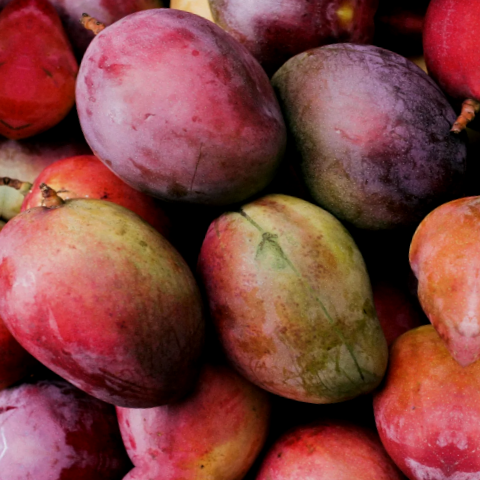mango: (0, 164, 237, 444), (173, 160, 404, 438), (32, 0, 307, 220), (246, 20, 480, 255)
